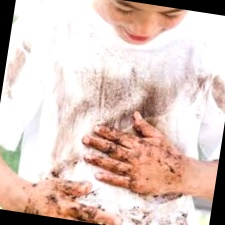earth: (89, 77, 128, 109), (138, 86, 170, 116), (6, 50, 28, 84), (58, 115, 75, 148), (104, 109, 130, 127), (129, 208, 154, 225), (210, 78, 225, 106), (174, 214, 191, 225), (51, 166, 62, 177)
